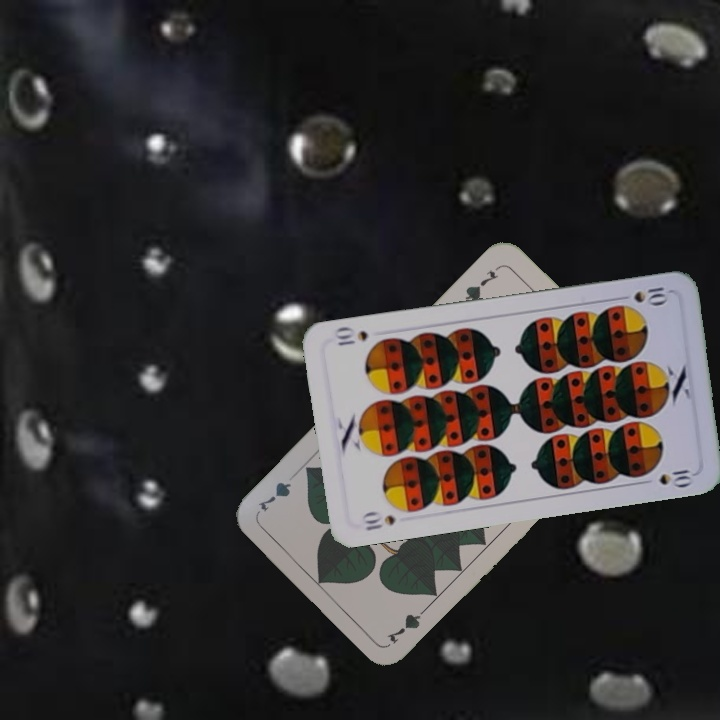G7: (383, 599, 434, 647), (458, 261, 504, 308)
S10: (613, 283, 672, 306), (358, 508, 399, 534)
